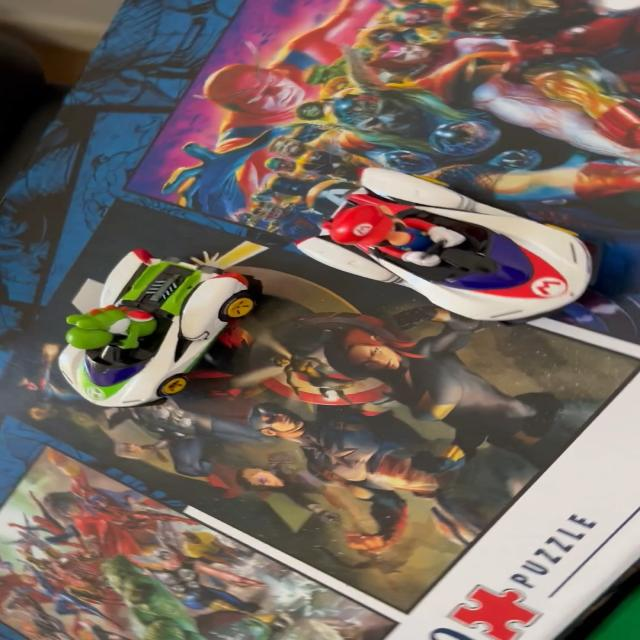mario: (291, 164, 625, 326)
yoshi: (31, 222, 272, 426)
